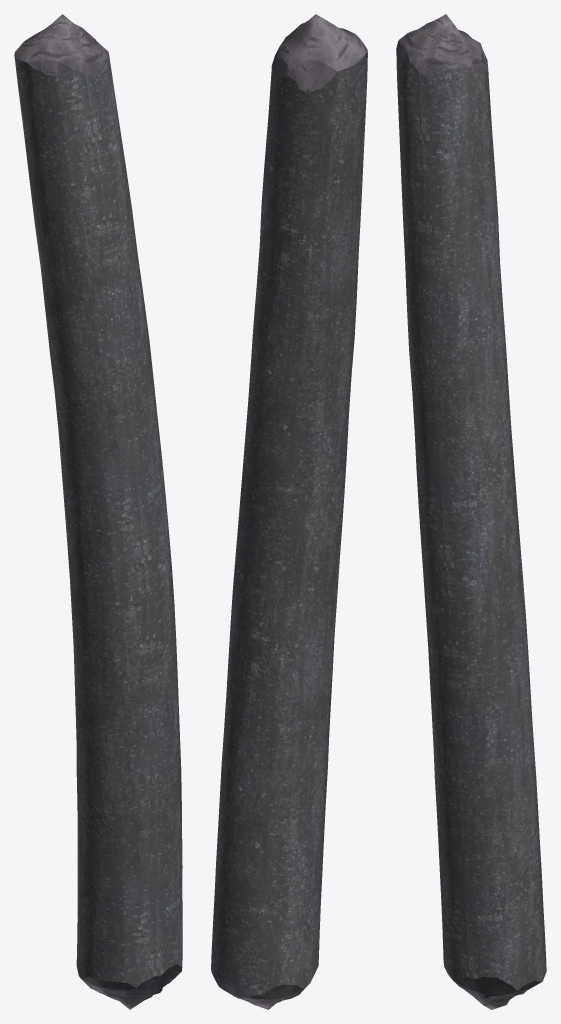
The picture shows the model from 3 angles, left to right: view 1: azimuth 30°, elevation 25°; view 2: azimuth 150°, elevation 25°; view 3: azimuth 330°, elevation 25°; orthographic projection. The views are drawn at different scales.
Parts seen in each view (by area): view 1: SM_FH_Ash_Tree_01_half_top_LOD0; view 2: SM_FH_Ash_Tree_01_half_top_LOD0; view 3: SM_FH_Ash_Tree_01_half_top_LOD0.
Part boxes in pixels (bbox=[...]): SM_FH_Ash_Tree_01_half_top_LOD0: bbox=[14, 14, 182, 1009]; SM_FH_Ash_Tree_01_half_top_LOD0: bbox=[211, 14, 367, 1009]; SM_FH_Ash_Tree_01_half_top_LOD0: bbox=[396, 14, 546, 1009].
Size of the model in its own units: 0.7405 by 4.8 by 0.5413.
Materials: 1 (1 with a texture image).
